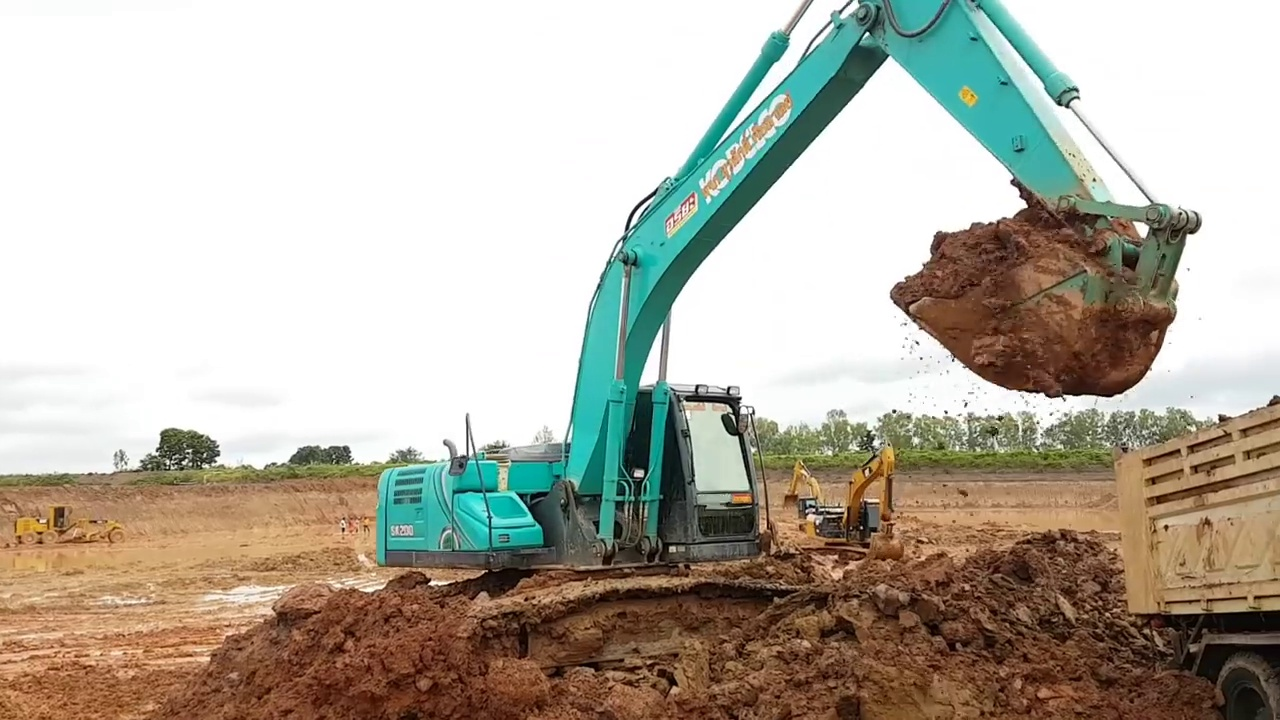excavator: (374, 1, 1203, 677), (837, 446, 907, 558), (785, 454, 829, 533)
person: (347, 514, 360, 538), (338, 512, 348, 542), (363, 516, 368, 535)
